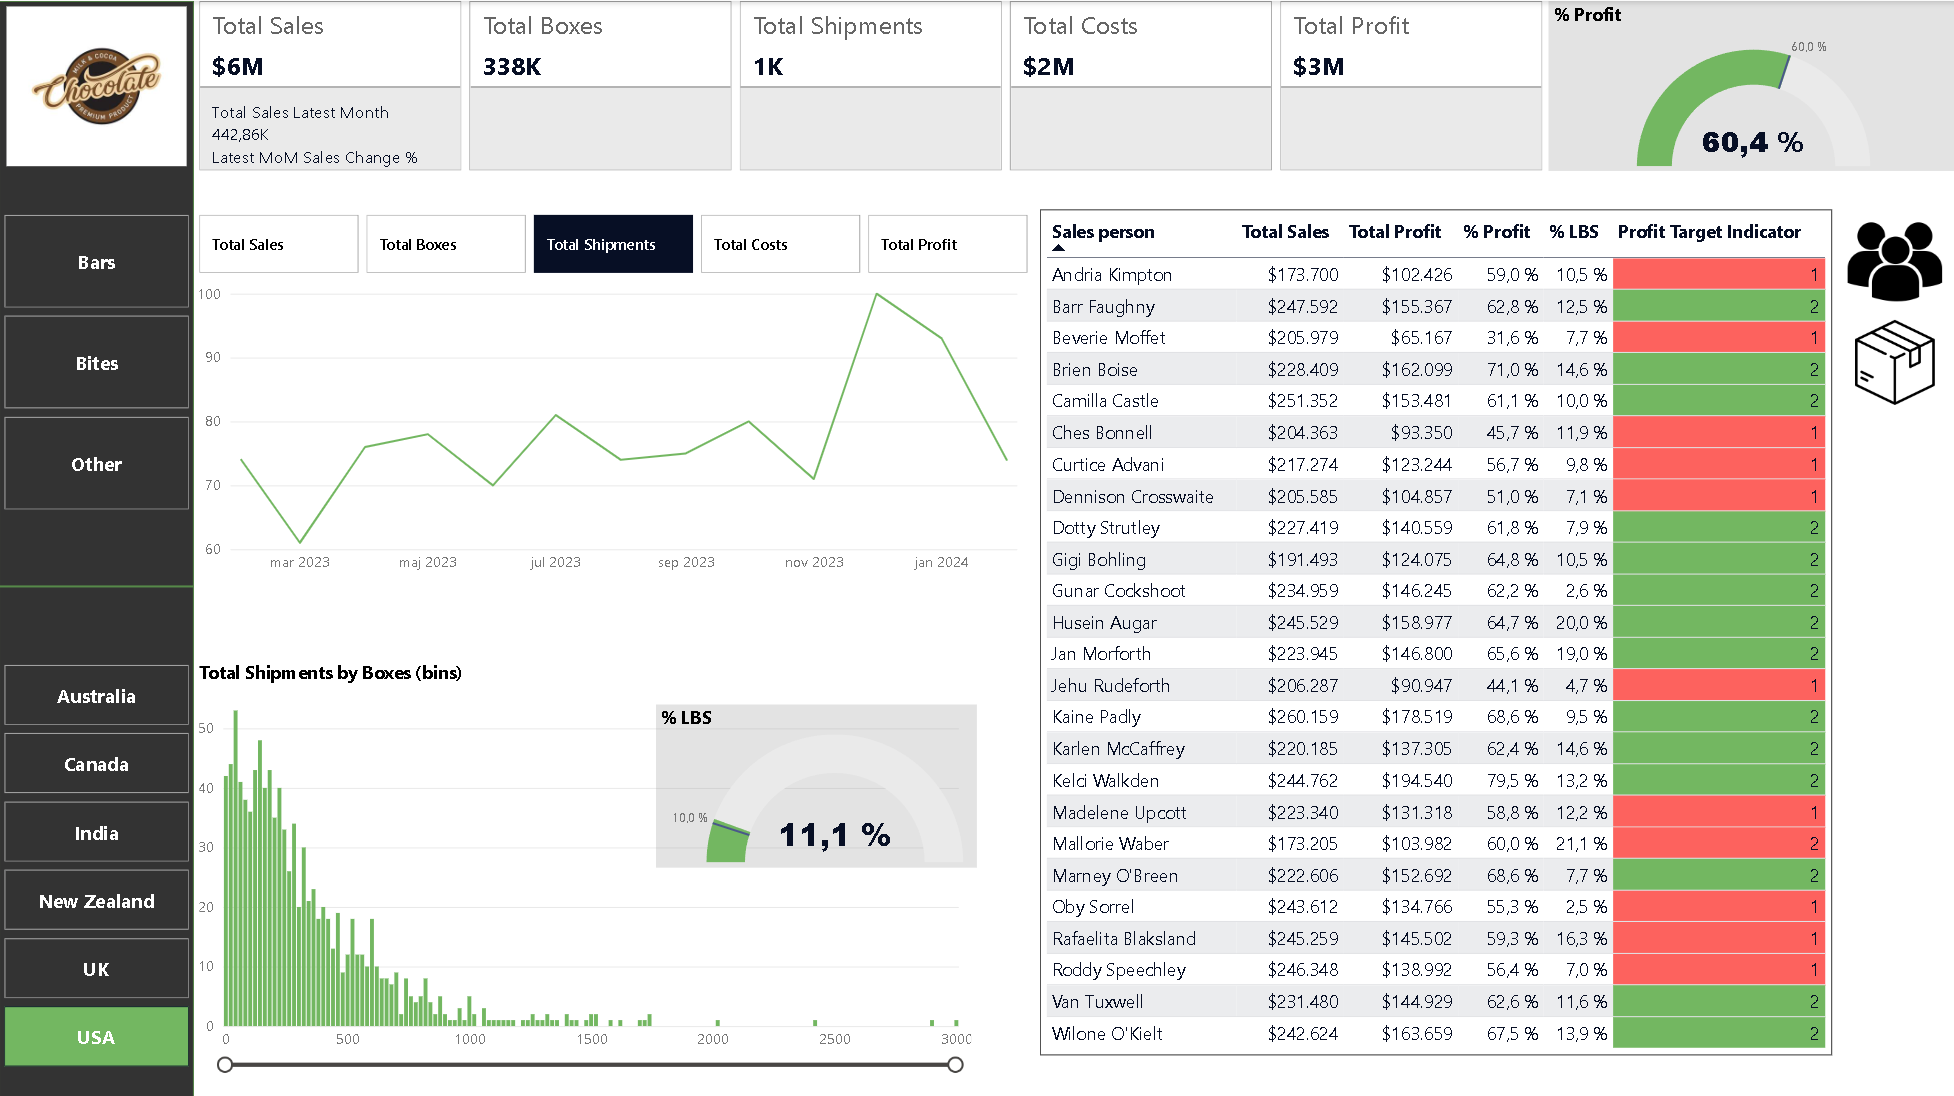

This screenshot's page, from the dashboard's own definition file:
{"tool":"powerbi","page":{"name":"Sales Report","canvas":[1920,1080],"ordinal":1},"visuals":[{"type":"shape","box":[0,0,191.1,1079.7],"z":0},{"type":"cardVisual","fields":{"Data":["_Measures.Total Sales","_Measures.Total Boxes","_Measures.Total Shipments","_Measures.Total Costs","_Measures.Total Profit"]},"box":[191.2,0,1327.9,166.9],"z":1000},{"type":"gauge","fields":{"Y":["_Measures.% Profit"]},"box":[1519.1,0,401.5,166.9],"z":2000},{"type":"image","box":[0,0,191.2,166.9],"z":3000},{"type":"lineChart","fields":{"Y":["_Measures.Total Shipments"],"Category":["calendar.Start of Month"]},"box":[191.1,271.2,826.6,299.6],"z":4000},{"type":"advancedSlicerVisual","fields":{"Values":["Measure Selector.Measure Selector"]},"box":[191.1,204.1,826.6,67.2],"z":5000},{"type":"columnChart","fields":{"Category":["shipments.Boxes (bins)"],"Y":["_Measures.Total Shipments"]},"box":[191.1,645.7,767.1,408.1],"z":6000},{"type":"gauge","fields":{"Y":["_Measures.% LBS"]},"box":[644.3,645.7,314.8,160.3],"z":7000},{"type":"tableEx","title":"Sales Person Table","fields":{"Values":["people.Sales person","_Measures.Total Sales","_Measures.Total Profit","_Measures.% Profit","_Measures.% LBS","_Measures.Profit Target Indicator"]},"box":[1020.3,205.1,776.9,829.1],"z":8000},{"type":"image","title":"People Icon","box":[1797.2,205.1,123.4,102.5],"z":10000},{"type":"image","title":"Product Icon","box":[1797.2,307.6,123.4,93.9],"z":11000},{"type":"advancedSlicerVisual","fields":{"Values":["products.Category"]},"box":[0,204.1,191.1,299.6],"z":12000},{"type":"advancedSlicerVisual","fields":{"Values":["locations.Geo"]},"box":[0,645.7,191.1,408.1],"z":12001},{"type":"shape","box":[0,503.7,191.1,142.1],"z":12002}]}

Visuals, with their boxes in screenshot pixels (x1, y1, x2, y2), scaled from the page's 1920x1080 canvas onto the 1954x1096 screenshot:
shape: l=0, t=0, r=194, b=1095
cardVisual - _Measures.Total Sales x _Measures.Total Boxes: l=195, t=0, r=1546, b=169
gauge - _Measures.% Profit: l=1546, t=0, r=1953, b=169
image: l=0, t=0, r=195, b=169
lineChart - _Measures.Total Shipments x calendar.Start of Month: l=194, t=275, r=1036, b=579
advancedSlicerVisual - Measure Selector.Measure Selector: l=194, t=207, r=1036, b=275
columnChart - shipments.Boxes (bins) x _Measures.Total Shipments: l=194, t=655, r=975, b=1069
gauge - _Measures.% LBS: l=656, t=655, r=976, b=818
"Sales Person Table" tableEx: l=1038, t=208, r=1829, b=1050
"People Icon" image: l=1829, t=208, r=1953, b=312
"Product Icon" image: l=1829, t=312, r=1953, b=407
advancedSlicerVisual - products.Category: l=0, t=207, r=194, b=511
advancedSlicerVisual - locations.Geo: l=0, t=655, r=194, b=1069
shape: l=0, t=511, r=194, b=655
